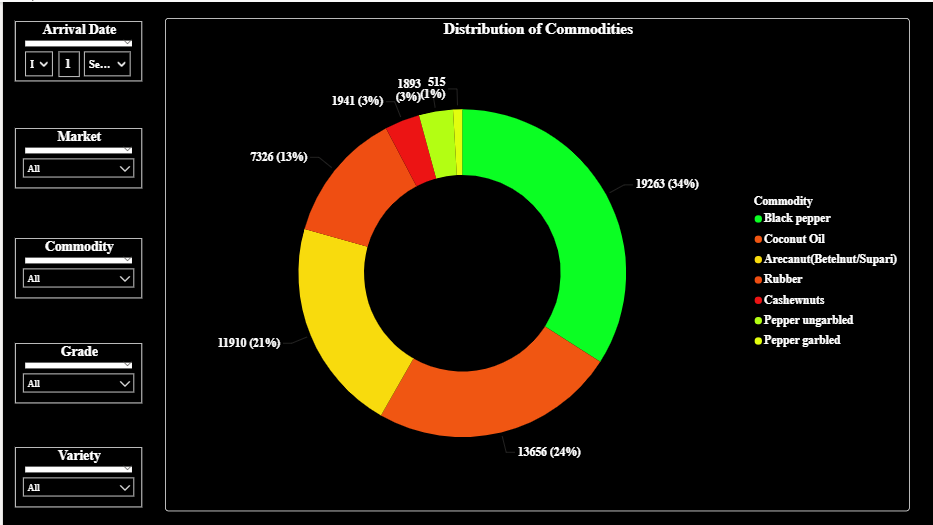

The page's visual inventory and layout, read from the dashboard file:
{"tool":"powerbi","page":{"name":"Distribution of Commodities","canvas":[1280,720],"ordinal":5},"visuals":[{"type":"donutChart","title":"Distribution of Commodities","fields":{"Category":["Market Sales Data.Commodity"],"Y":["CountNonNull(Market Sales Data.Commodity)"]},"box":[223,22,1025.4,678.5],"z":1000},{"type":"slicer","title":"Arrival Date","fields":{"Values":["Market Sales Data.Arrival_Date"]},"box":[16.5,26.2,174.8,82.6],"z":6000},{"type":"slicer","title":"Market","fields":{"Values":["Market Sales Data.Market"]},"box":[16.5,173.4,174.8,82.6],"z":7000},{"type":"slicer","title":"Commodity","fields":{"Values":["Market Sales Data.Commodity"]},"box":[16.5,324.8,174.8,82.6],"z":8000},{"type":"slicer","title":"Grade","fields":{"Values":["Market Sales Data.Grade"]},"box":[16.5,469.3,174.8,82.6],"z":9000},{"type":"slicer","title":"Variety","fields":{"Values":["Market Sales Data.Variety"]},"box":[16.5,612.5,174.8,82.6],"z":10000}]}

Visuals, with their boxes in screenshot pixels (x1, y1, x2, y2), scaled from the page's 1280x720 canvas onto the 933x525 screenshot:
"Distribution of Commodities" donutChart: {"x1": 163, "y1": 16, "x2": 910, "y2": 511}
"Arrival Date" slicer: {"x1": 12, "y1": 19, "x2": 139, "y2": 79}
"Market" slicer: {"x1": 12, "y1": 126, "x2": 139, "y2": 187}
"Commodity" slicer: {"x1": 12, "y1": 237, "x2": 139, "y2": 297}
"Grade" slicer: {"x1": 12, "y1": 342, "x2": 139, "y2": 402}
"Variety" slicer: {"x1": 12, "y1": 447, "x2": 139, "y2": 507}
